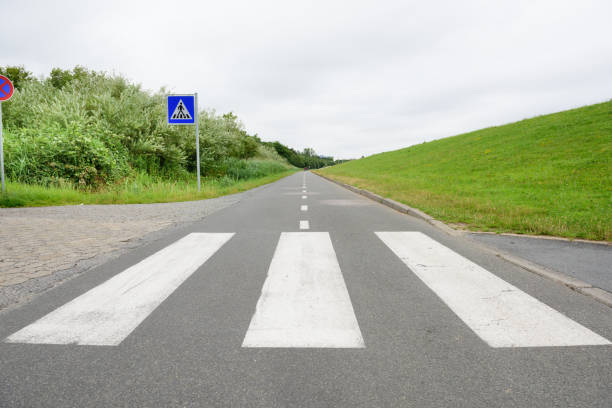yaya_gecidi: (167, 93, 196, 128)
